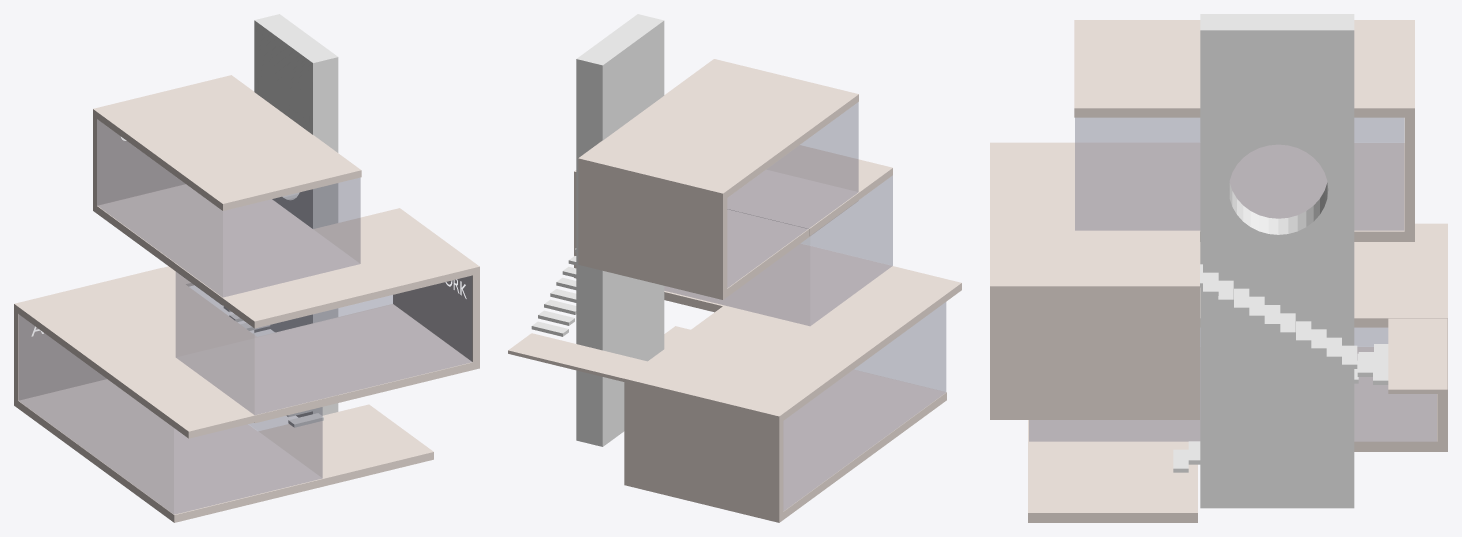
File: Mockup.glb
The picture shows the model from 3 angles, left to right: view 1: azimuth 30°, elevation 25°; view 2: azimuth 150°, elevation 25°; view 3: azimuth 270°, elevation 25°; orthographic projection. The views are drawn at different scales.
Parts seen in each view (by area): view 1: Cube, Cube.001, Cube.002, Plane2, Plane1, Plane3, Pillar, Cube.017; view 2: Cube, Cube.002, Pillar, Plane1, Plane3, Plane2, Cube.001, Cube.018, Cube.003; view 3: Pillar, Cube.001, Cube, Cube.002, Plane3, Plane1, Cube.003, Cube.018, Cube.017.
Part boxes in pixels (left/top/right/bottom): Cube: left=14, top=267, right=433, bottom=522; Cube.001: left=174, top=208, right=479, bottom=423; Cube.002: left=93, top=75, right=361, bottom=305; Plane2: left=176, top=272, right=471, bottom=414; Plane1: left=18, top=314, right=322, bottom=514; Plane3: left=97, top=119, right=360, bottom=297; Pillar: left=254, top=14, right=338, bottom=417; Cube.017: left=223, top=306, right=323, bottom=427; Cube: left=624, top=245, right=961, bottom=522; Cube.002: left=578, top=59, right=858, bottom=299; Pillar: left=576, top=14, right=664, bottom=446; Plane1: left=783, top=302, right=945, bottom=510; Plane3: left=727, top=102, right=858, bottom=287; Plane2: left=664, top=175, right=892, bottom=325; Cube.001: left=574, top=145, right=892, bottom=312; Cube.018: left=508, top=333, right=647, bottom=381; Cube.003: left=531, top=248, right=576, bottom=336; Pillar: left=1200, top=14, right=1354, bottom=508; Cube.001: left=990, top=142, right=1199, bottom=419; Cube: left=1028, top=223, right=1447, bottom=522; Cube.002: left=1074, top=20, right=1414, bottom=241; Plane3: left=1075, top=118, right=1403, bottom=230; Plane1: left=1029, top=328, right=1436, bottom=441; Cube.003: left=1200, top=264, right=1388, bottom=384; Cube.018: left=1388, top=318, right=1447, bottom=393; Cube.017: left=1173, top=344, right=1388, bottom=472.
Size of the model in its own units: 7.51 by 9.01 by 7.81.
